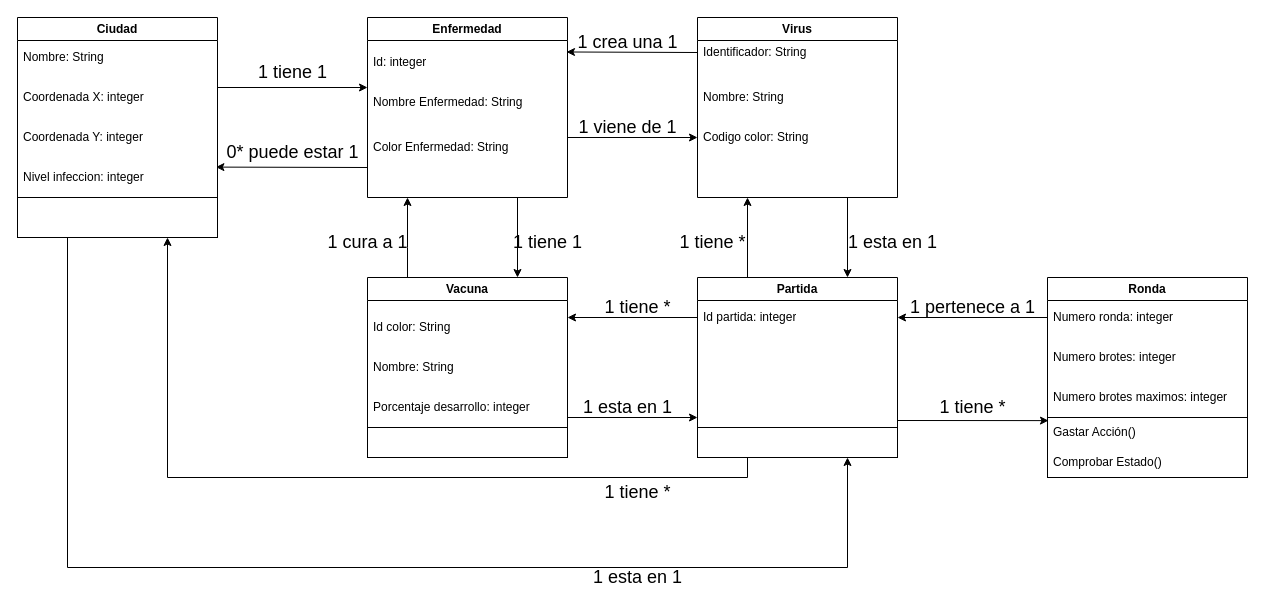
Image size: 1265x615. Some labels were removed from this diagram. The centre of each missing label's shape, as x and y in pixels:
"Curar Enfermedad()" belongs at pixel 797 442.
"Desarrollo()" belongs at pixel 467 442.
"Nivel infeccion()" belongs at pixel 117 217.
